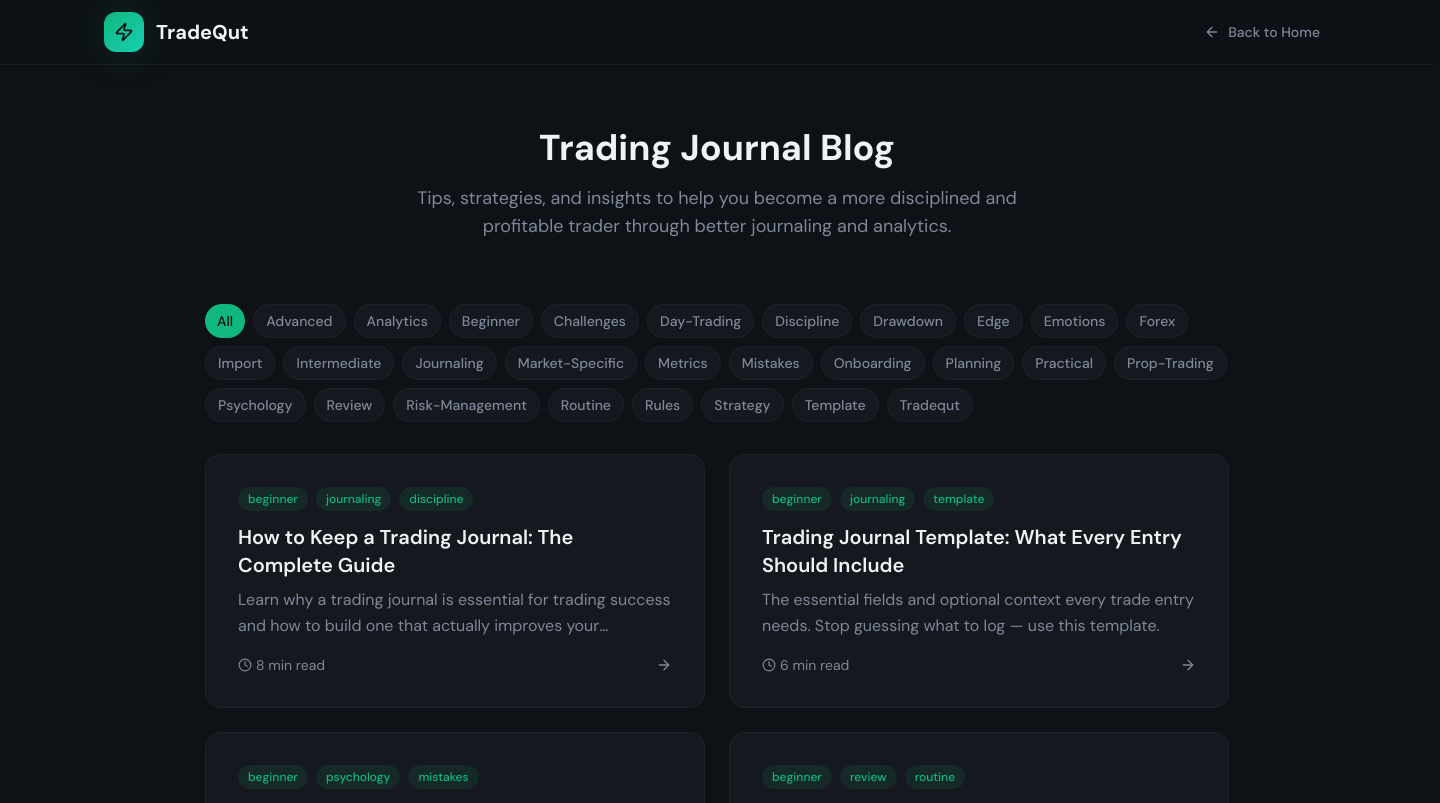
Test case: BlogIndexPage › filters articles by tag
Click the button "forex": x=1157, y=321 x1=1126 y1=304 x2=1188 y2=338
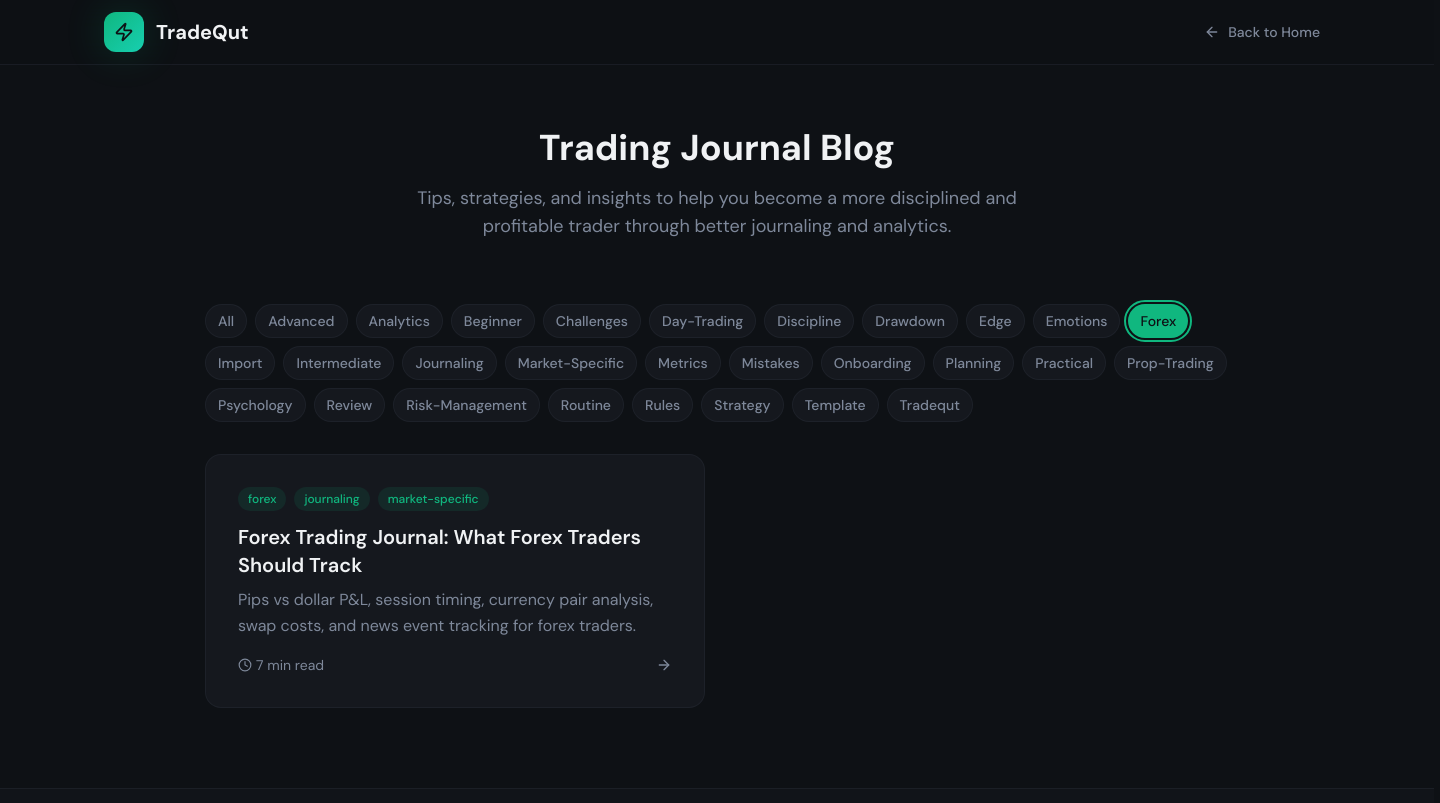
Expected: the heading "Forex Trading Journal: What Forex Traders Should Track" is shown, x1=238 y1=523 x2=672 y2=579
Result: the link "How to Keep a Trading Journal: The Complete Guide" is gone
